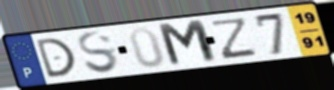0: (128, 26, 166, 70)
7: (252, 13, 289, 56)
D: (33, 36, 79, 80)
M: (154, 17, 221, 69)
S: (75, 30, 122, 76)
Z: (211, 15, 259, 61)
